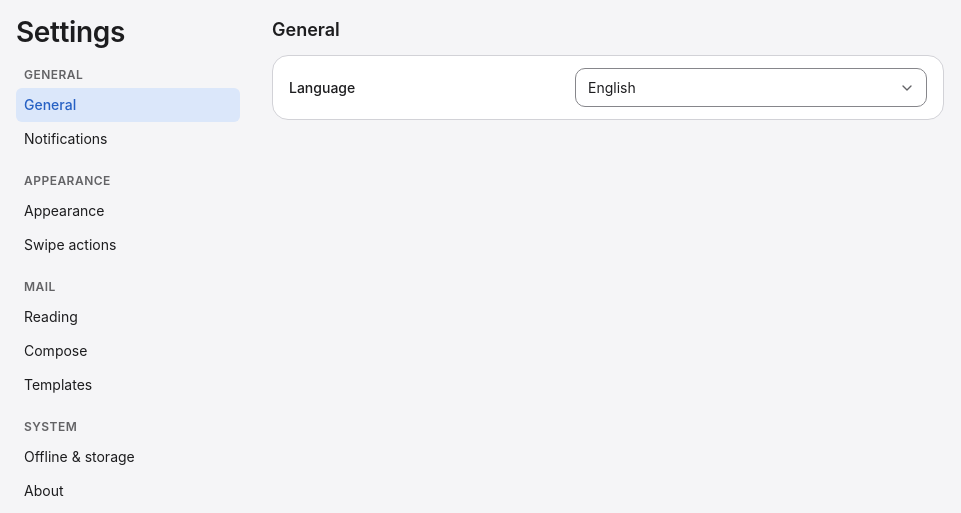
Test case: heading structure (G6) › keeps page title over section title where both are on screen
Click the link "Compose" at (56, 351), box top-left (24, 342), bottom-right (87, 359)
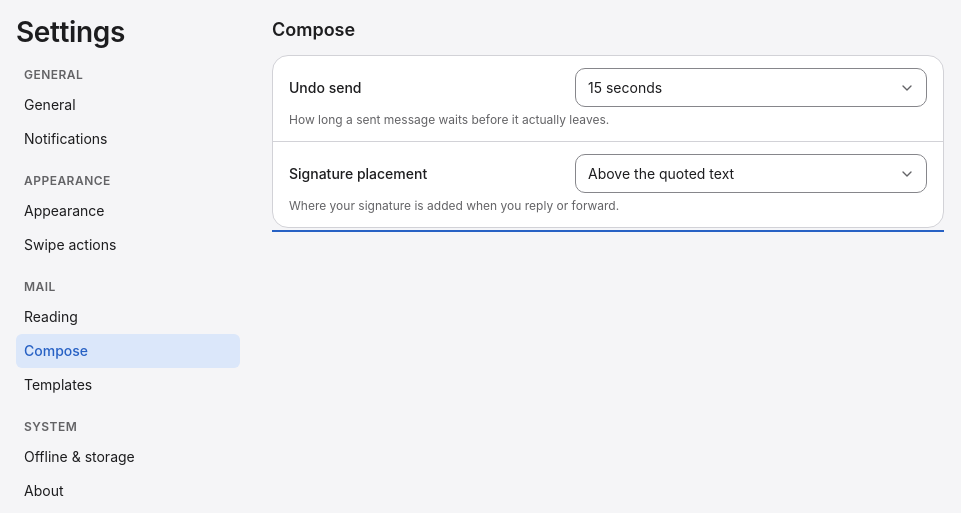
Expected: the heading "Settings" is shown, top-left (16, 16), bottom-right (125, 49)
Result: the heading "Compose" is shown at top-left (272, 19), bottom-right (355, 40)
